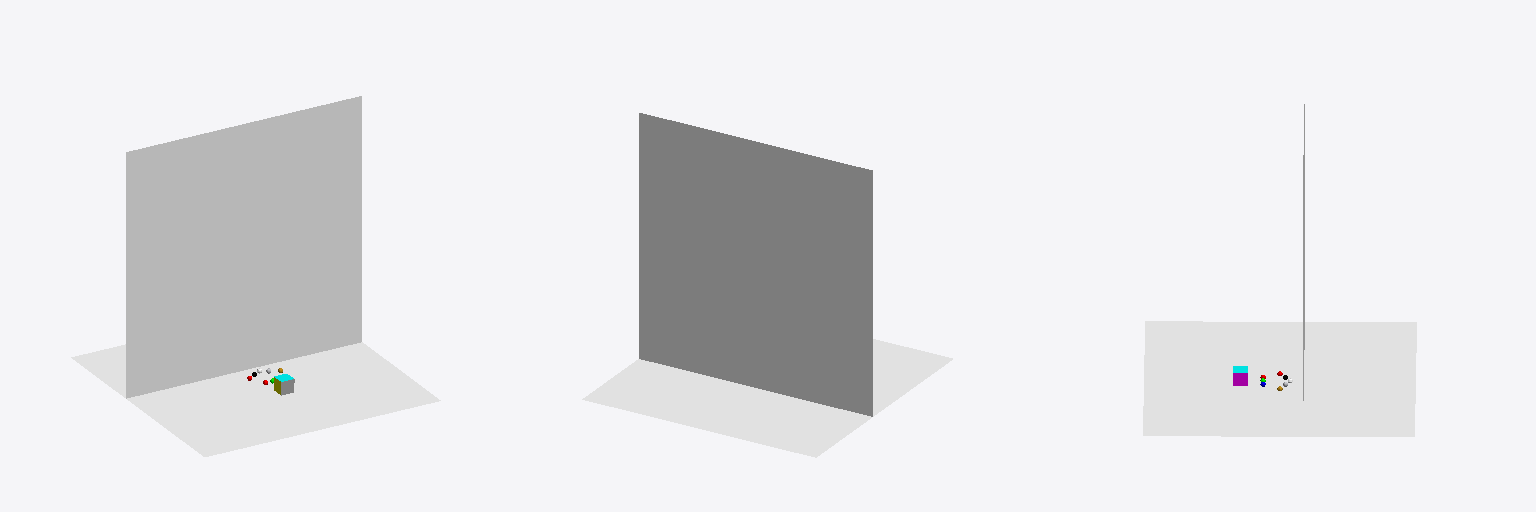
File: demoScene.obj
The picture shows the model from 3 angles: view 1: azimuth 30°, elevation 25°; view 2: azimuth 150°, elevation 25°; view 3: azimuth 270°, elevation 25°; orthographic projection.
Visible parts, largest first — view 1: 000_Mirror, 001_ground; view 2: 000_Mirror, 001_ground; view 3: 001_ground.
Boxes of the visible parts, <box> form: 000_Mirror: <box>126,96,361,398</box>; 001_ground: <box>71,342,440,456</box>; 000_Mirror: <box>639,113,872,416</box>; 001_ground: <box>582,339,952,457</box>; 001_ground: <box>1143,321,1416,436</box>.
Bounding box in the file's own units: 101 × 100 × 101.